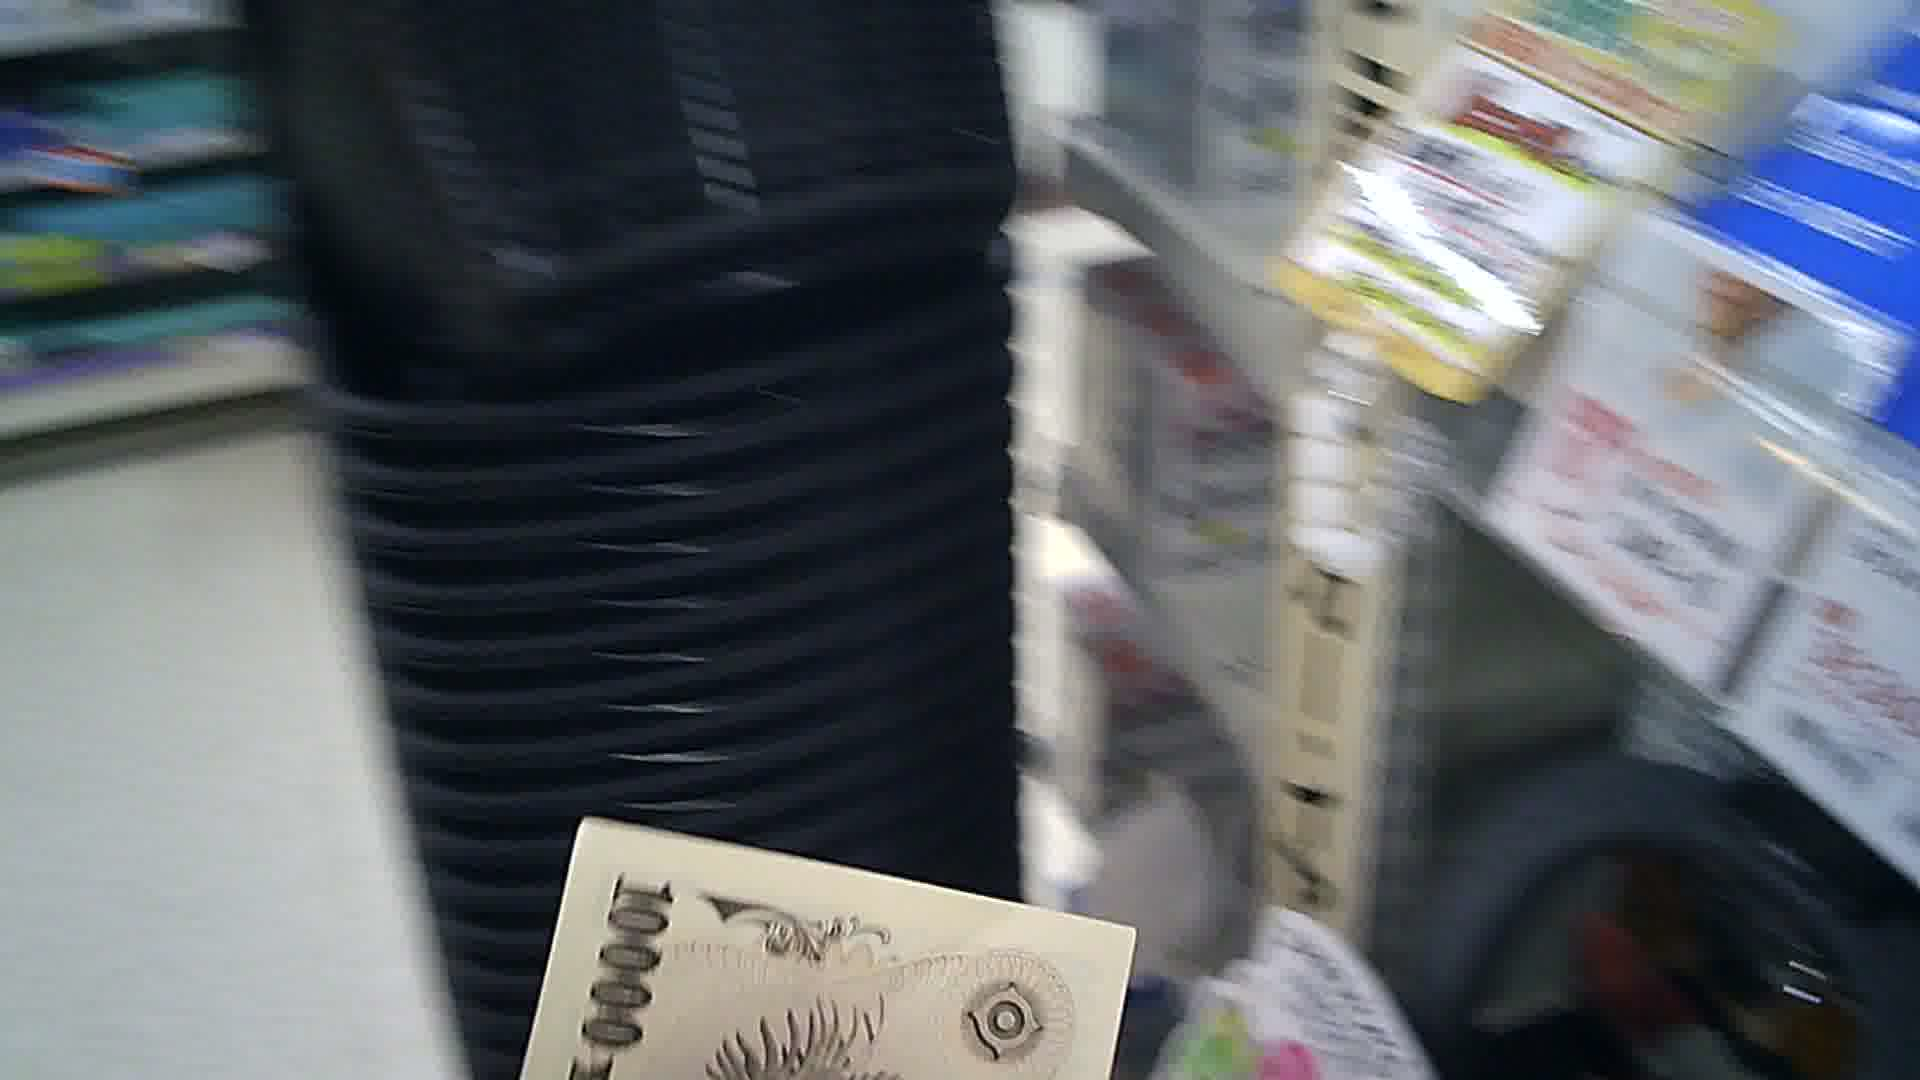10,000 Yen: (493, 800, 1117, 1079)
